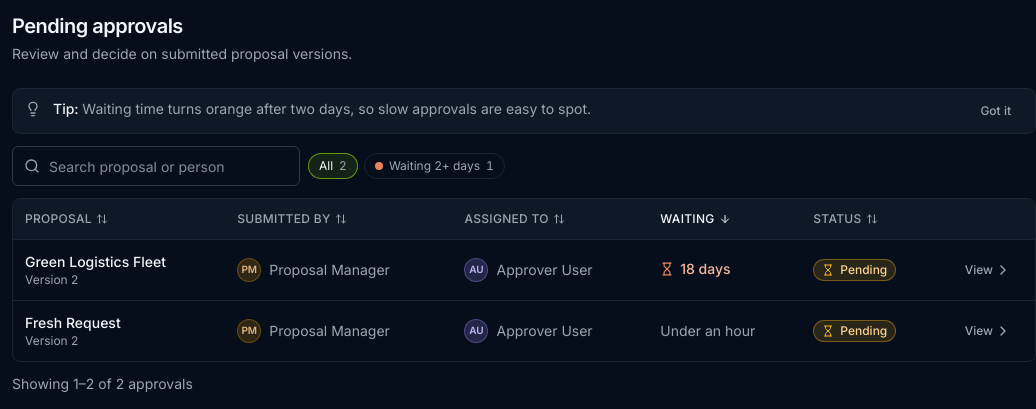
Test case: ApprovalDashboard › filters to requests that have waited two days or more
The width and height of the screenshot is (1036, 409).
Expected: the text "Fresh Request" is shown, [25,314,121,330]
Click the button "Waiting 2+ days 1" at (434, 166), box [364,153,505,179]
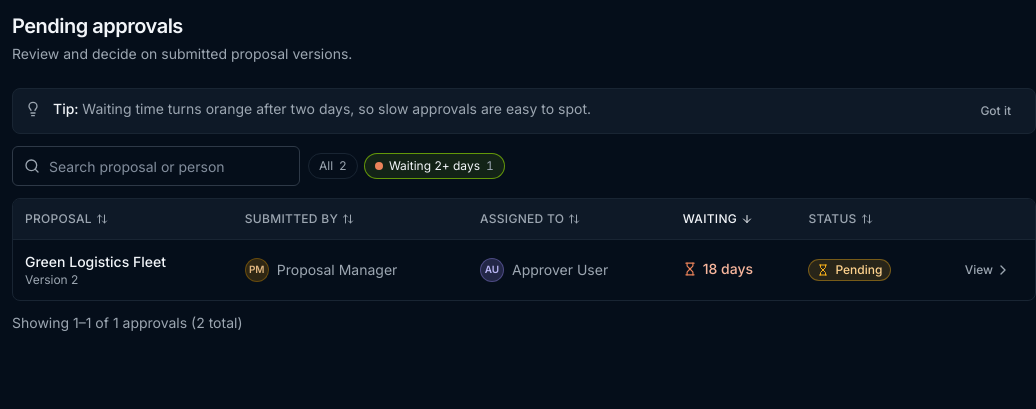
Expected: the text "Green Logistics Fleet" is shown, [25,252,166,270]
Result: the text "Fresh Request" is gone
